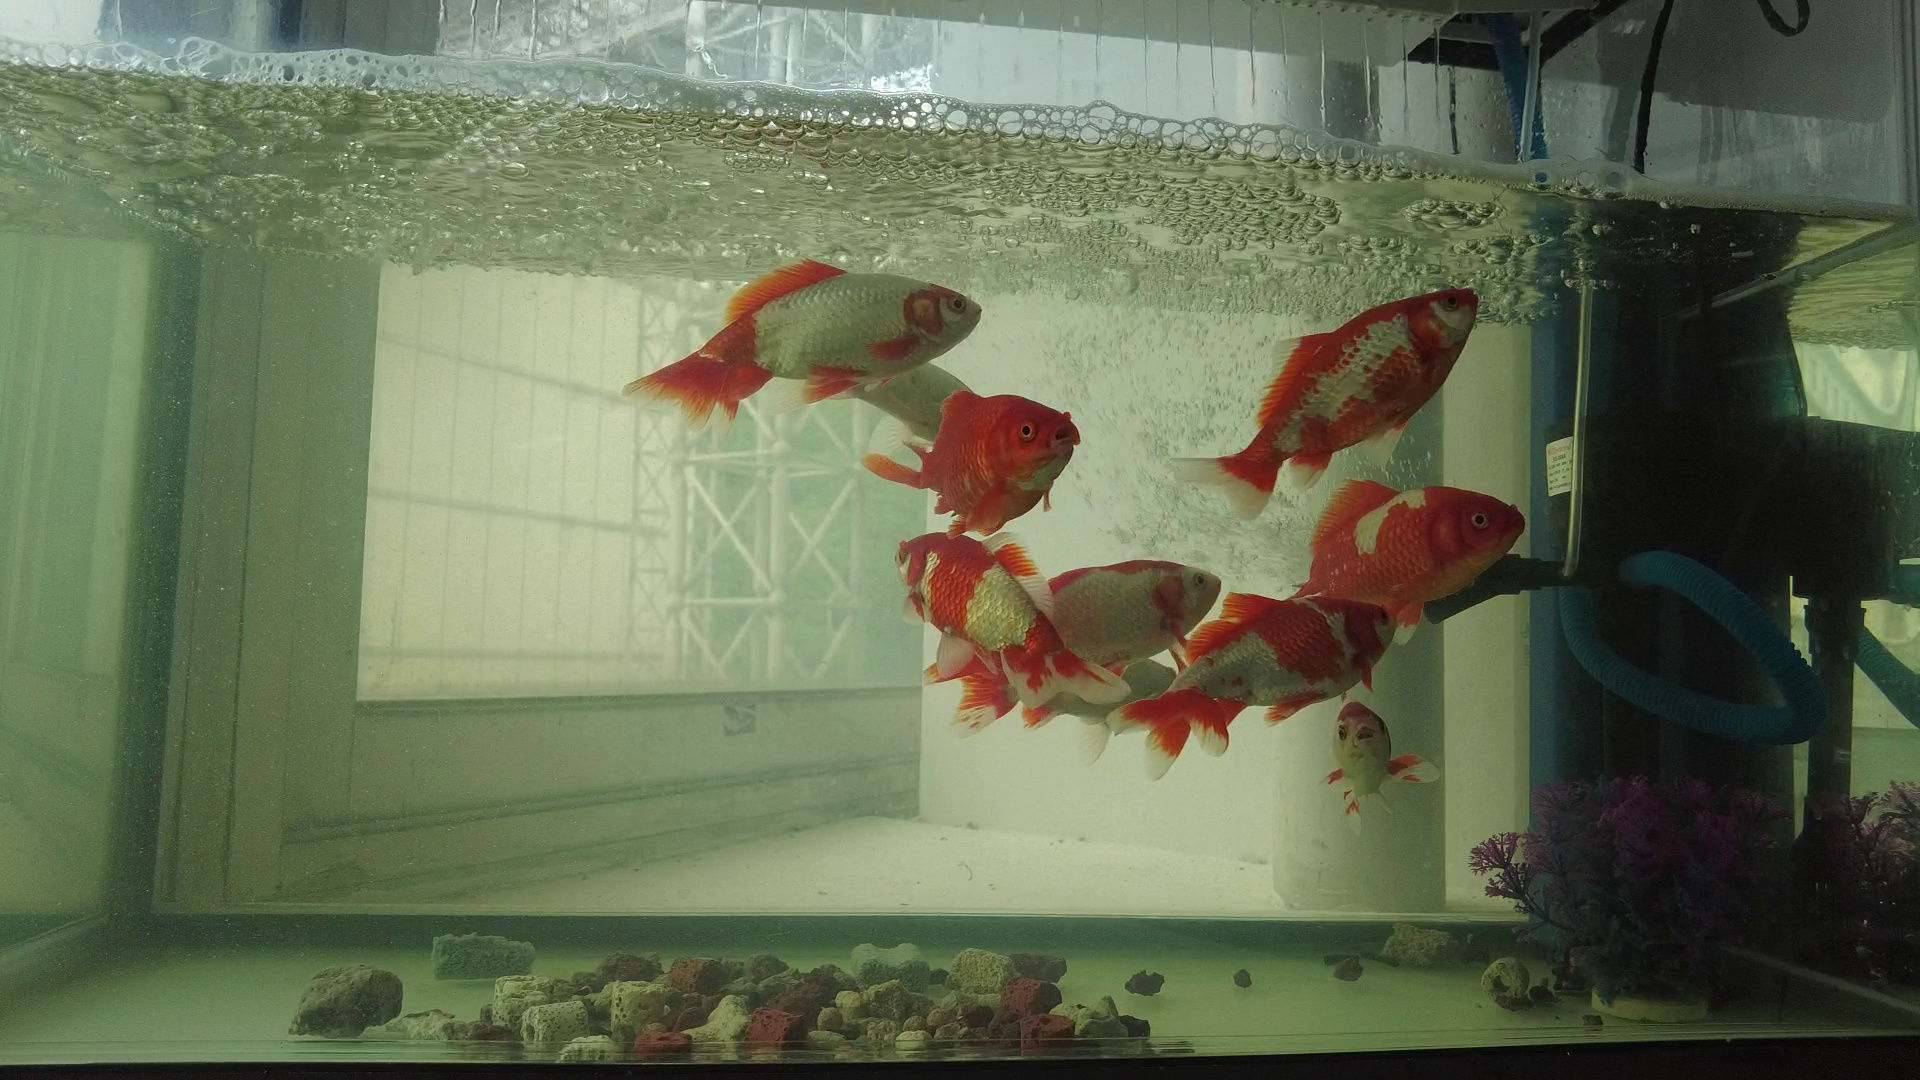fish: (1160, 278, 1491, 526), (615, 249, 994, 435), (1095, 583, 1406, 786), (919, 553, 1230, 738), (887, 527, 1139, 717), (1302, 473, 1535, 649), (855, 378, 1091, 545), (1312, 694, 1452, 845)
